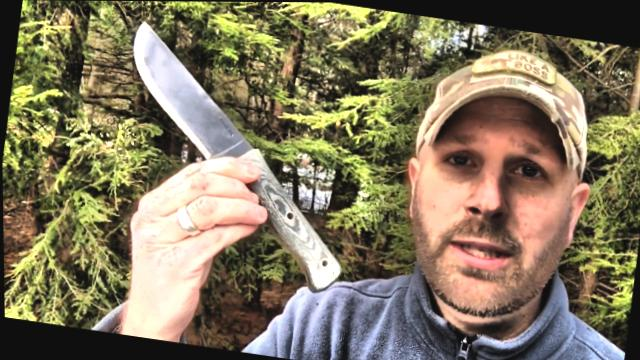knife: (96, 11, 286, 221)
